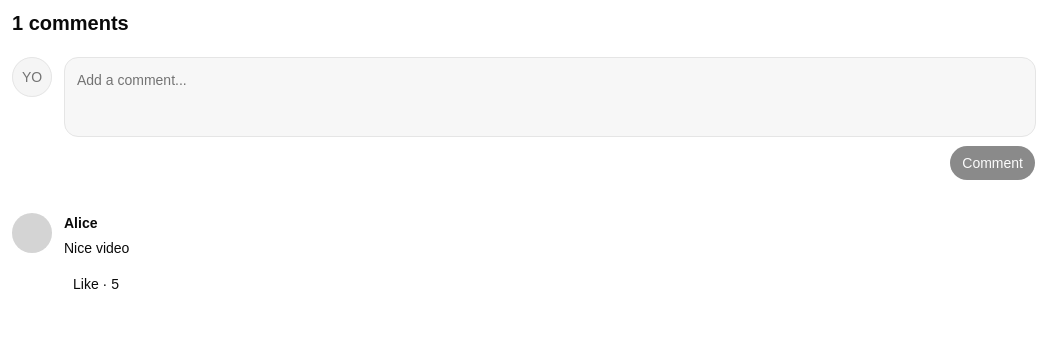
Test: CommentsSection comment likes › reports a false like response as an error
The image size is (1048, 339).
What coordinates should you click on to do the following:
click the button "Like · 5"
I would click on:
 (96, 284)
Its box is [64,268,128,300].
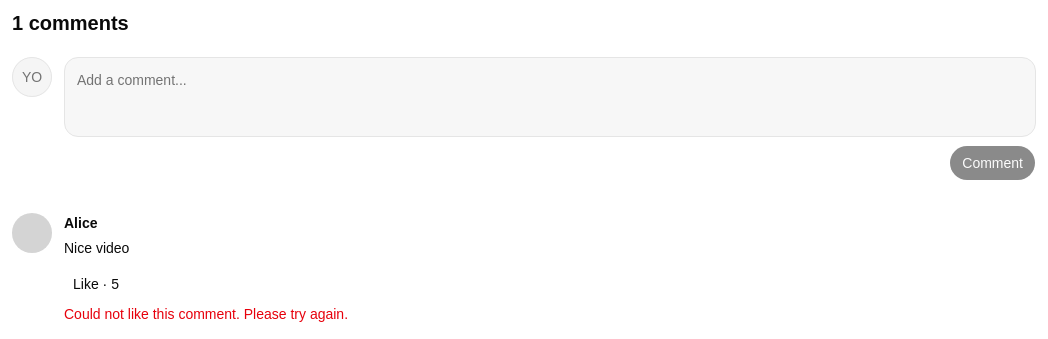
Now the message reads "Could not like this comment. Please try again.", box [64,306,348,322]
